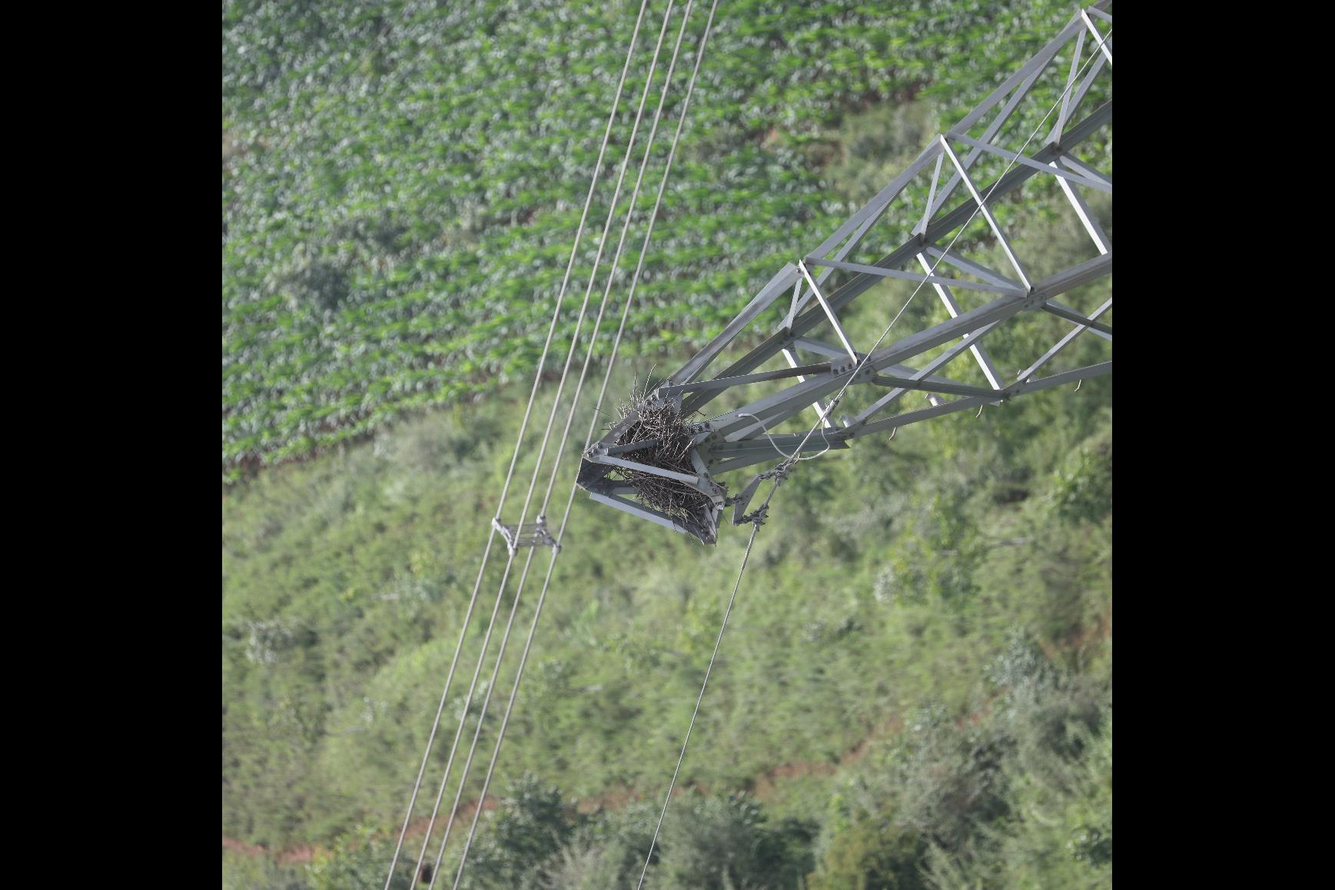nest: (607, 388, 709, 531)
